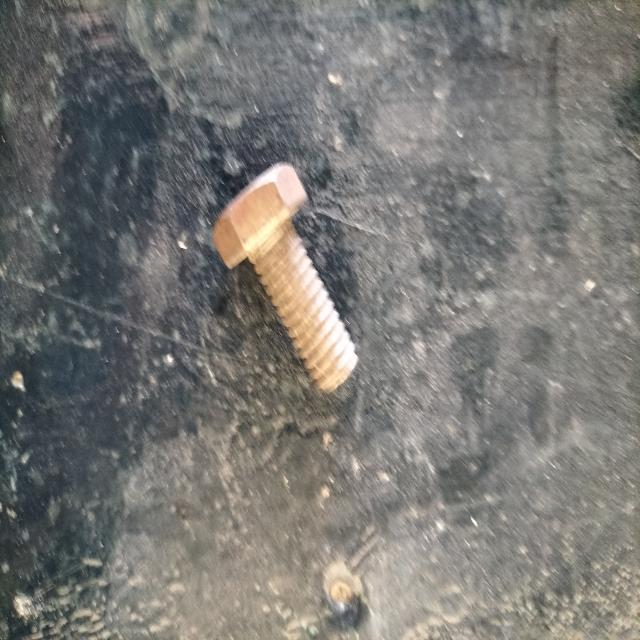bolt: (213, 162, 358, 394)
